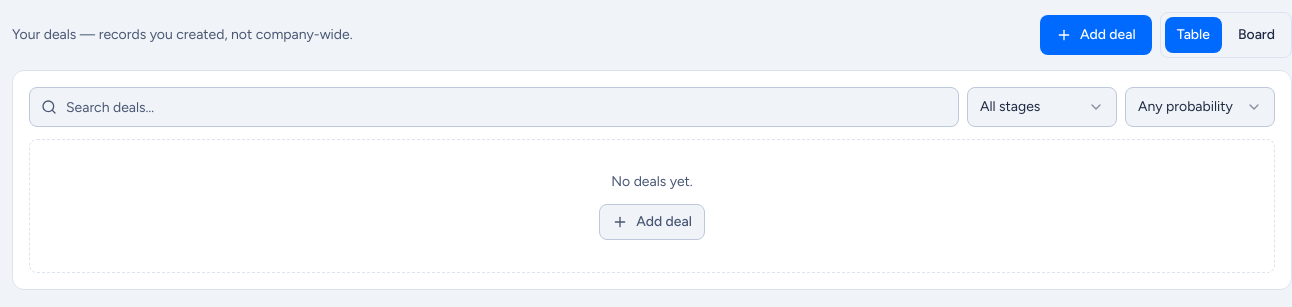
Scenario: DealsView board › an empty pipeline shows a message and Add deal
Click the button "Board". click: (1256, 35)
box: [1226,17,1287,53]
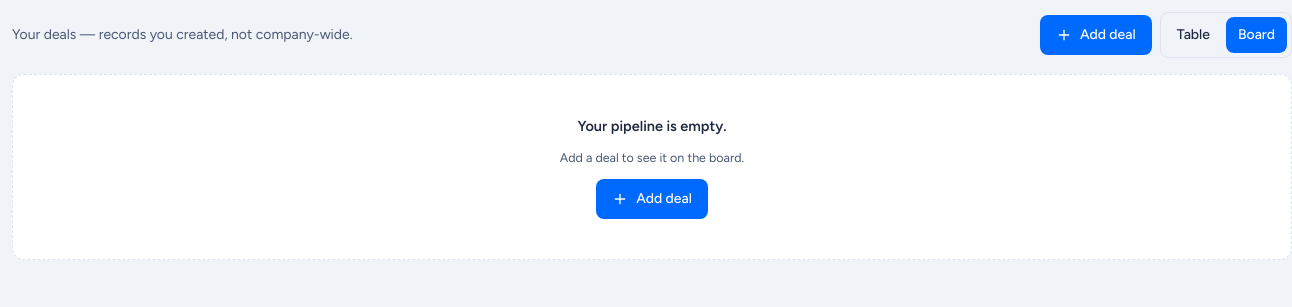
Expected: the 1st button "Add deal" is shown, [1040,15,1152,55]
Expected: the text "Your pipeline is empty." is shown, [577,115,727,137]
